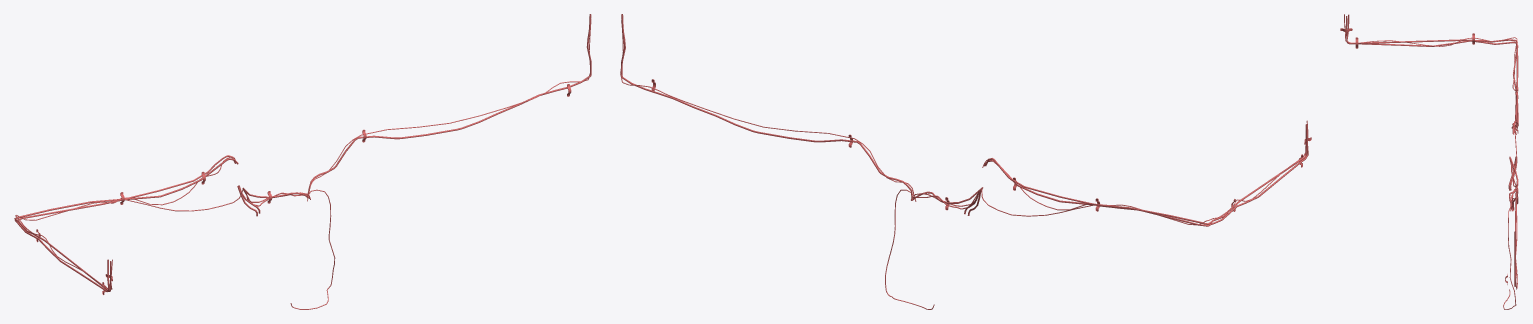
The model's file is MeterBox_Wire_A_Snaps004.FBX.
The picture shows the model from 3 angles, left to right: view 1: azimuth 30°, elevation 25°; view 2: azimuth 150°, elevation 25°; view 3: azimuth 270°, elevation 25°; orthographic projection. The views are drawn at different scales.
Visible parts, largest first — view 1: Geometry_MeterBox_Wire_A_LOD00; view 2: Geometry_MeterBox_Wire_A_LOD00; view 3: Geometry_MeterBox_Wire_A_LOD00.
Boxes of the visible parts, box(x1,y1,x2,y2) form: Geometry_MeterBox_Wire_A_LOD00: box(14, 14, 591, 309); Geometry_MeterBox_Wire_A_LOD00: box(620, 14, 1311, 309); Geometry_MeterBox_Wire_A_LOD00: box(1340, 14, 1518, 309).
Size of what is drawn, in the model's own units: 574 by 210 by 173.
